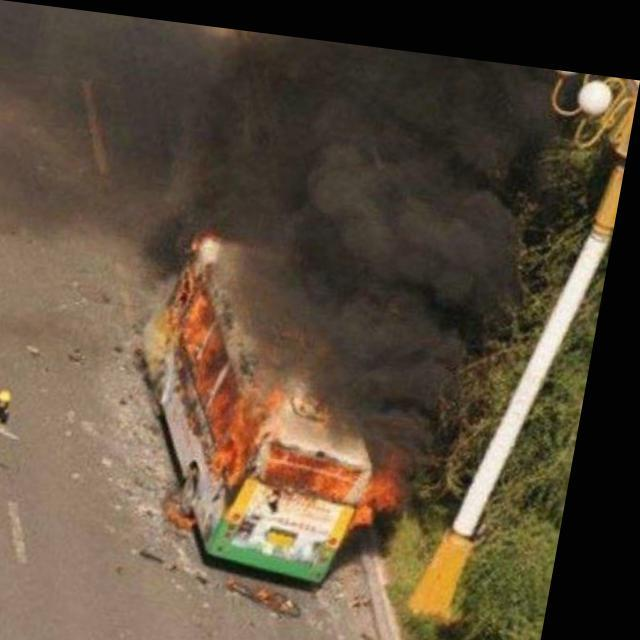Fire: (134, 221, 446, 583)
